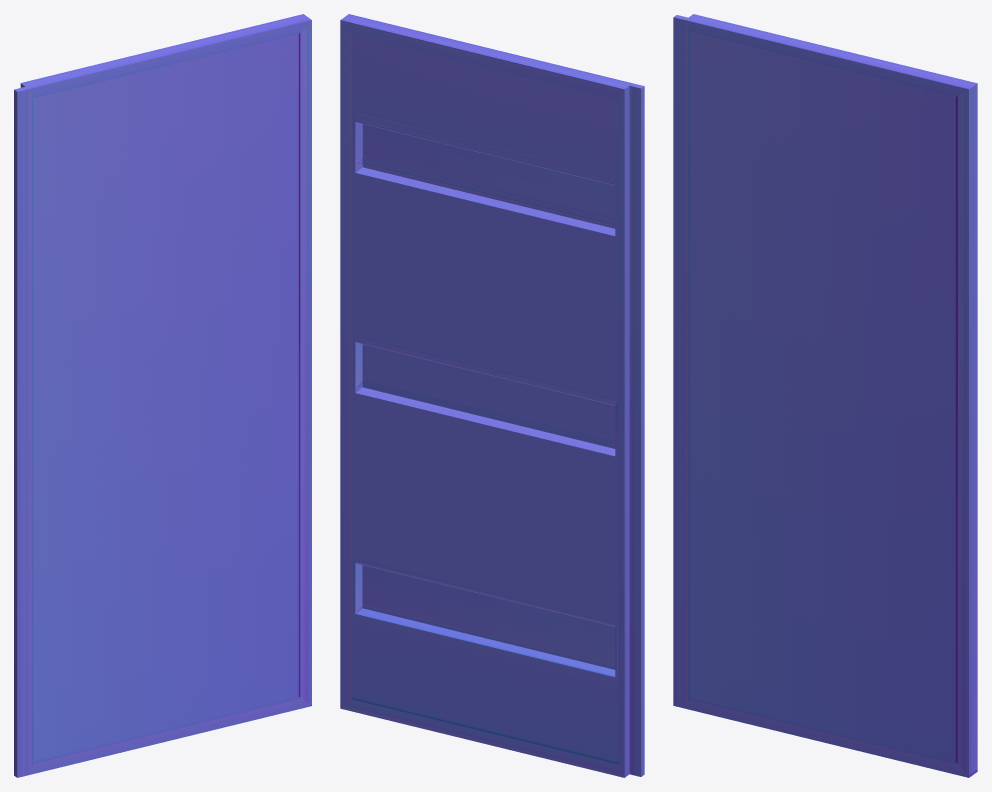
Rendered from CnMainDoorWndLA1.fbx.
The picture shows the model from 3 angles, left to right: view 1: azimuth 30°, elevation 25°; view 2: azimuth 150°, elevation 25°; view 3: azimuth 330°, elevation 25°; orthographic projection.
Visible parts, largest first — view 1: CnMainDoorWndLA1; view 2: CnMainDoorWndLA1; view 3: CnMainDoorWndLA1.
Part boxes in pixels (x1=…): CnMainDoorWndLA1: x1=14, y1=14, x2=311, y2=777; CnMainDoorWndLA1: x1=340, y1=14, x2=644, y2=777; CnMainDoorWndLA1: x1=673, y1=14, x2=977, y2=777.
Size of the model in its own units: 102 by 227 by 5.
